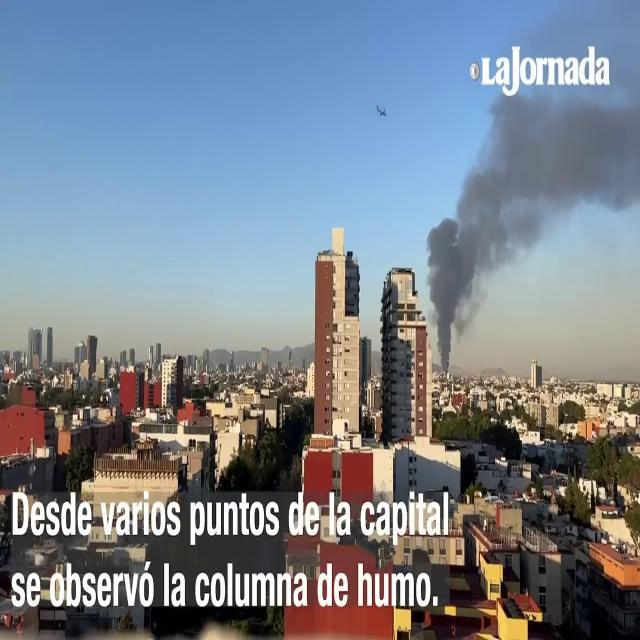Smoke: (425, 78, 640, 384)
